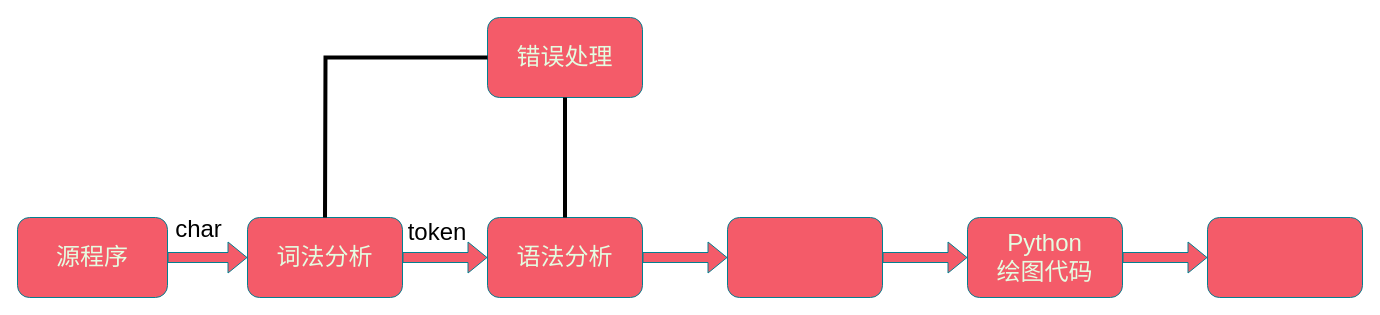
The diagram is 1380 pixels wide and 315 high, and some of its shapes have lost their labels. The shapes that lost their labels are listed below. From the top down, each one's centre as x and y in pixels, then its label:
At point 804,257: "语义分析".
At point 1284,257: "图像".
